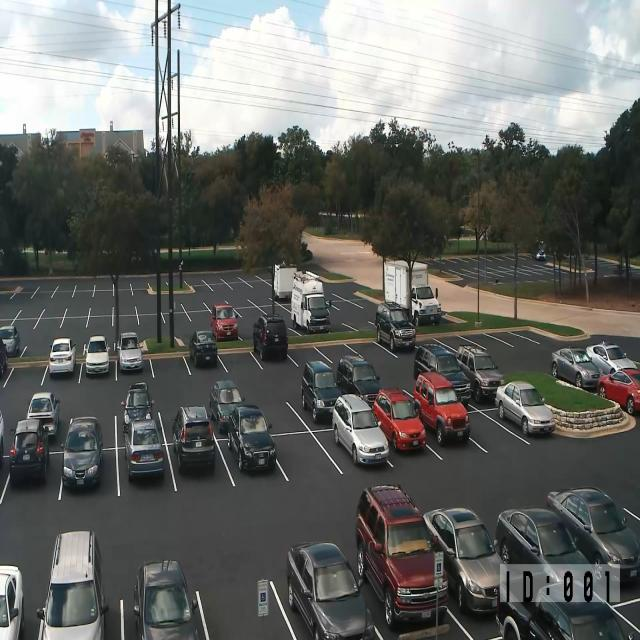car: (355, 484, 449, 630), (496, 566, 640, 639), (494, 506, 597, 604), (546, 486, 640, 583), (286, 540, 375, 640), (423, 506, 502, 615), (36, 530, 109, 640), (133, 559, 200, 639), (528, 598, 634, 640), (413, 371, 471, 446), (332, 393, 389, 466), (413, 342, 471, 408), (372, 388, 426, 452), (494, 381, 556, 436), (227, 404, 276, 472), (60, 415, 103, 489), (172, 405, 215, 473), (456, 344, 504, 402), (9, 418, 49, 483), (123, 417, 164, 480), (301, 360, 342, 423), (336, 353, 381, 408), (551, 347, 602, 390), (375, 301, 416, 351), (597, 368, 640, 414), (209, 379, 245, 433), (0, 564, 24, 639), (413, 341, 457, 381), (586, 341, 637, 375), (252, 313, 288, 361), (122, 381, 154, 433), (26, 391, 60, 439), (411, 283, 441, 326), (116, 331, 144, 372), (83, 335, 110, 376), (189, 330, 218, 368), (49, 337, 76, 376), (211, 302, 238, 341), (0, 324, 20, 356), (0, 337, 7, 378), (0, 408, 4, 468), (535, 248, 546, 260)
